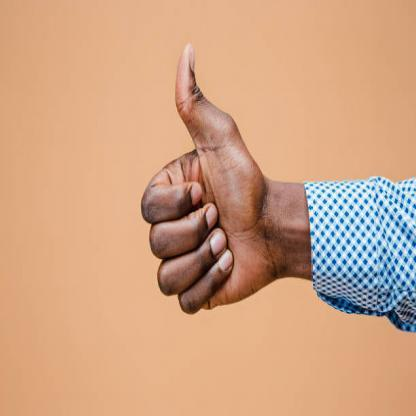thumb_up: (136, 38, 281, 318)
